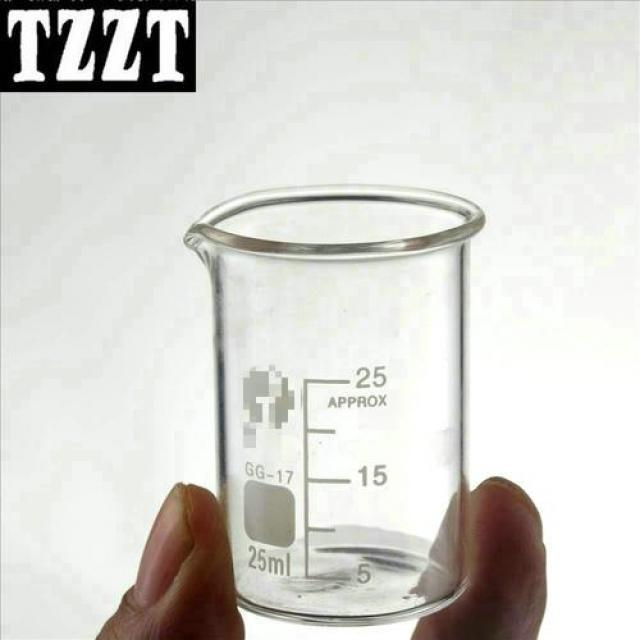Beaker: (184, 176, 473, 626)
